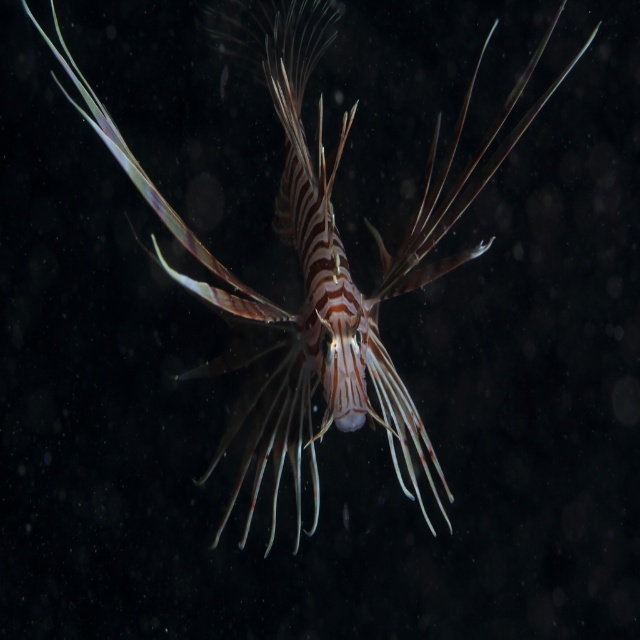Fish: (21, 0, 602, 559)
